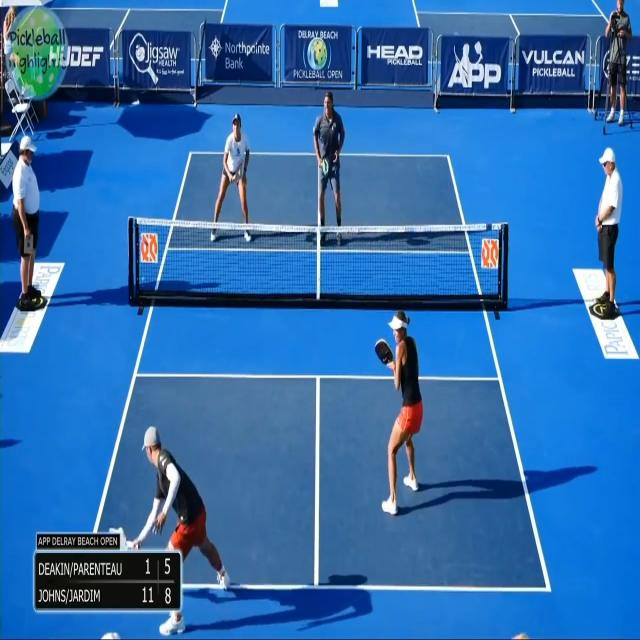Court: (87, 153, 549, 591)
